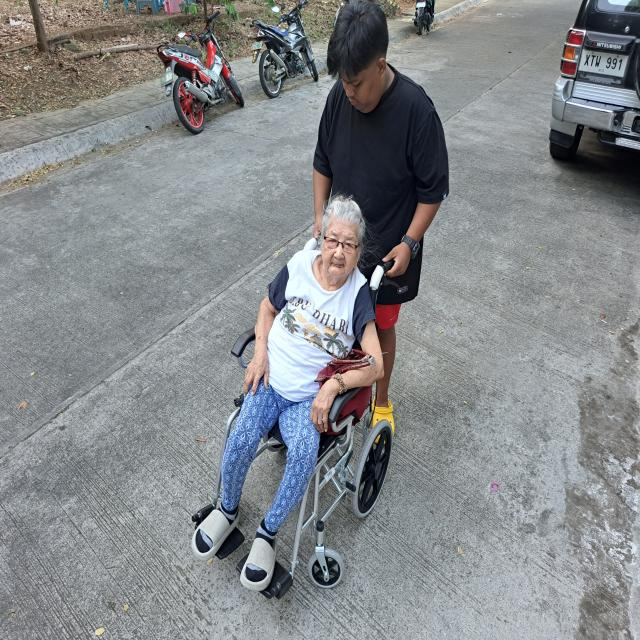wheelchairs: (196, 274, 397, 610)
